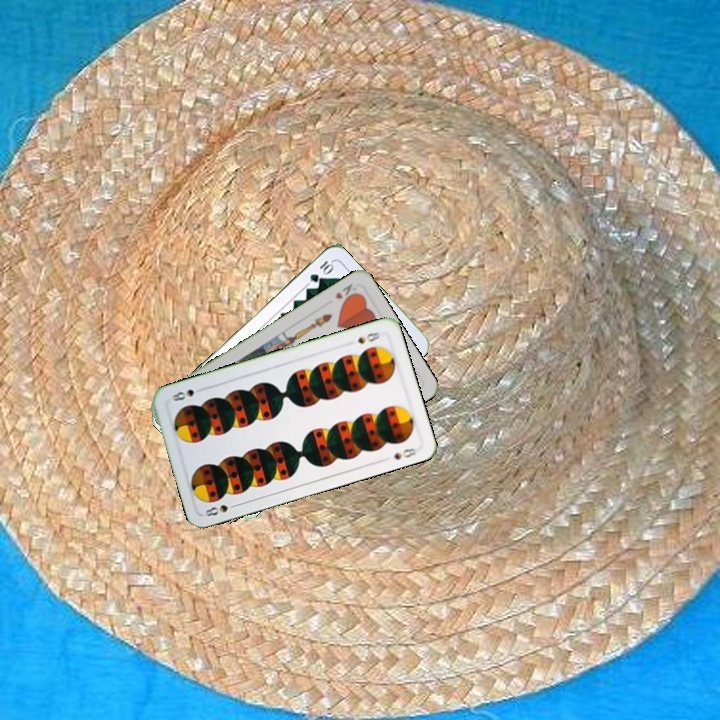G10: (305, 256, 336, 285)
HK: (331, 279, 360, 305)
S8: (201, 500, 241, 521), (353, 328, 382, 346)
